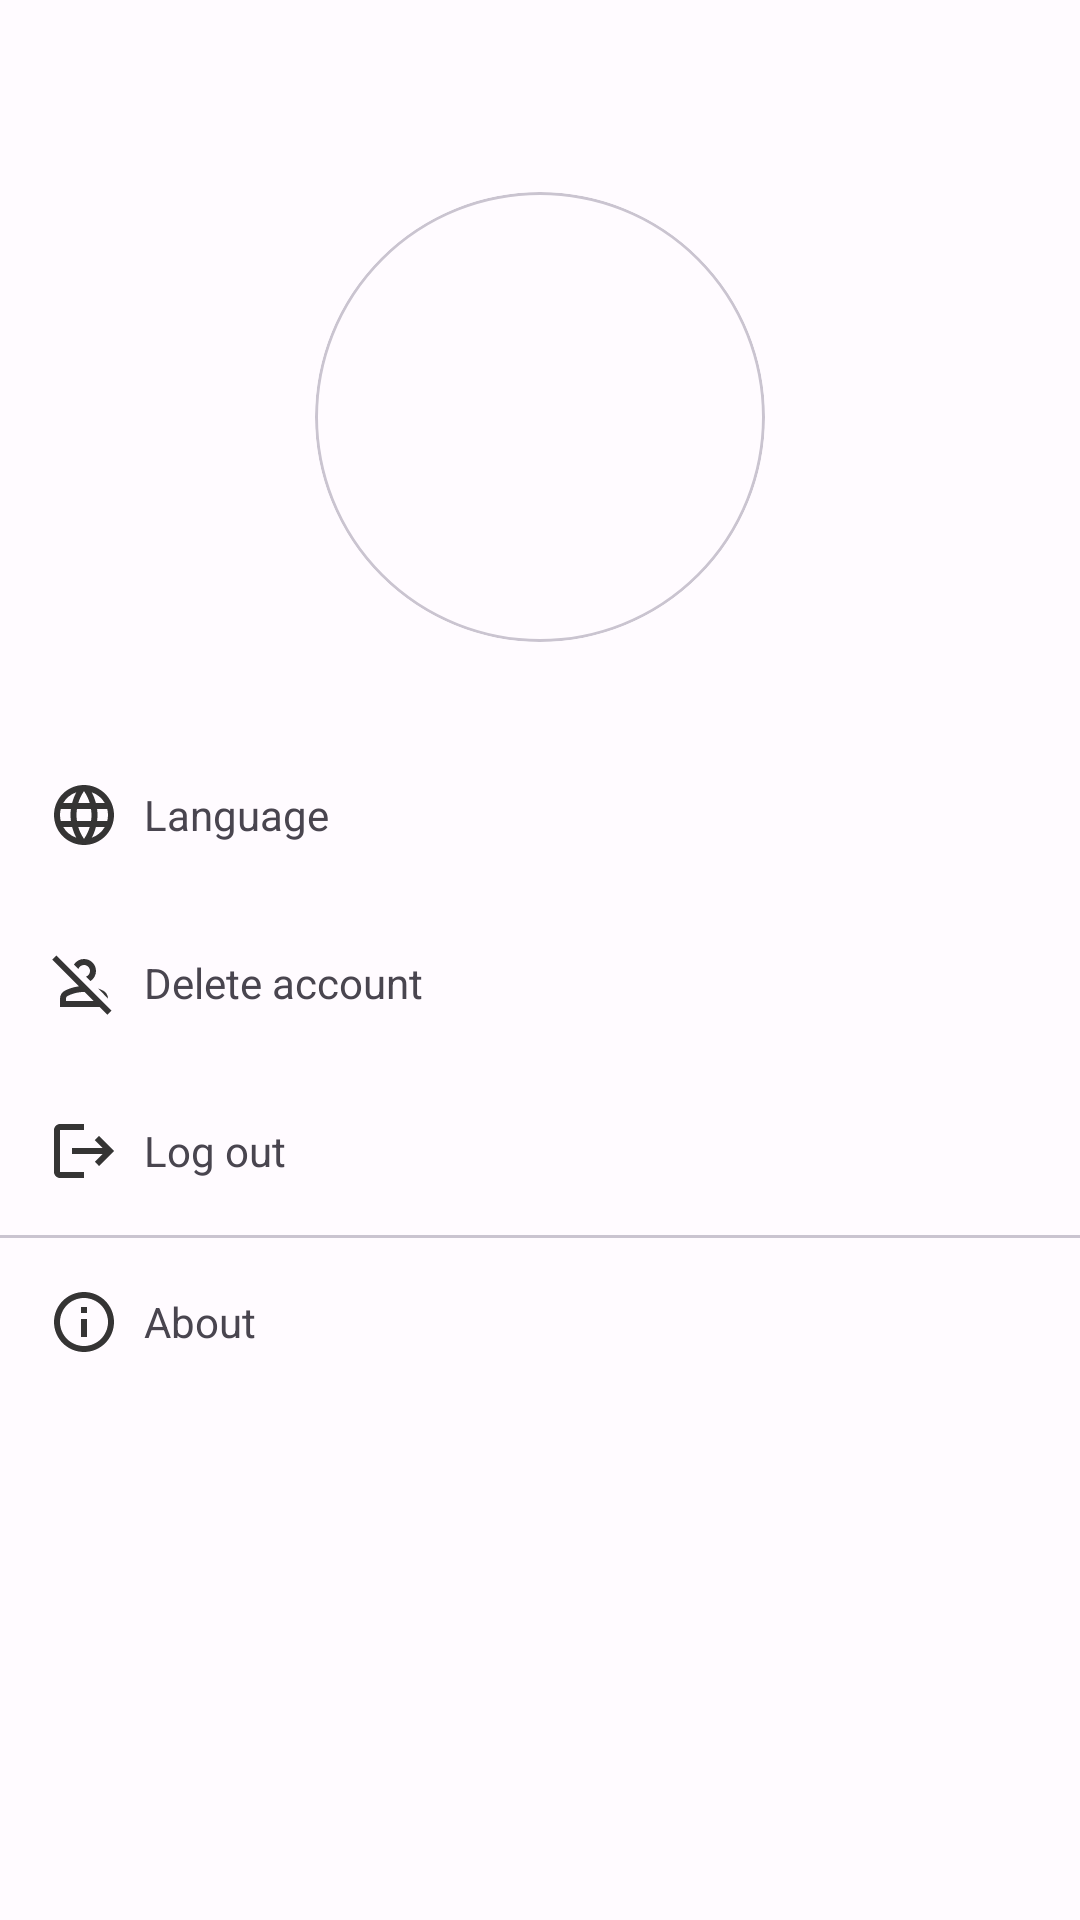

Named icons in this screenshot (1080*1920) and their centers, (x=x, y=y):
info: (x=84, y=1322)
